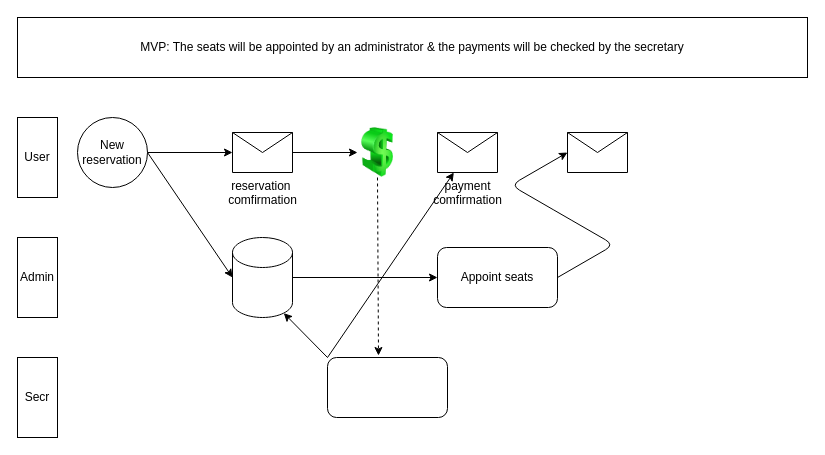
Image size: 825x455. Some labels were removed from this diagram. Here are the shapes that lost their labels. From the top down, the centre of each, then its label:
(x=377, y=152): payment
(x=597, y=152): ticket distribution
(x=262, y=277): DB
(x=387, y=387): Checking payments
